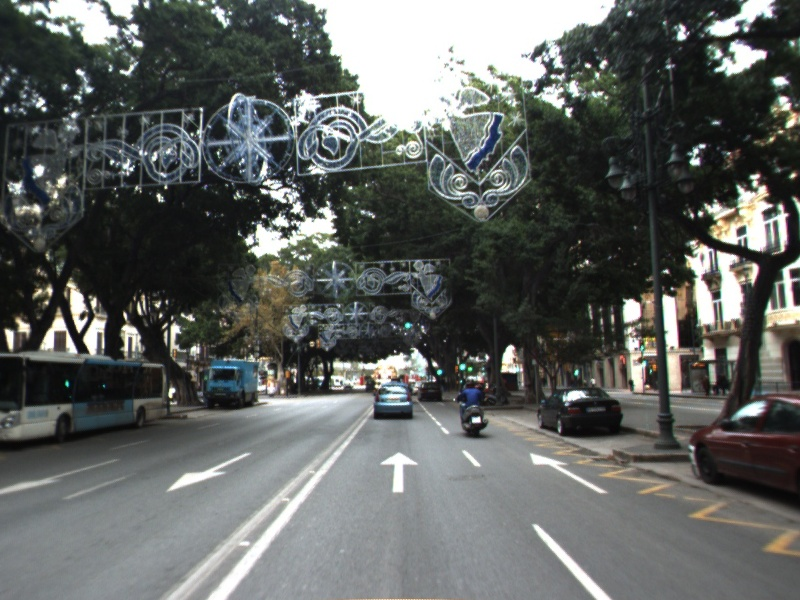STRAIGHT: (528, 451, 611, 496), (378, 450, 421, 495)
